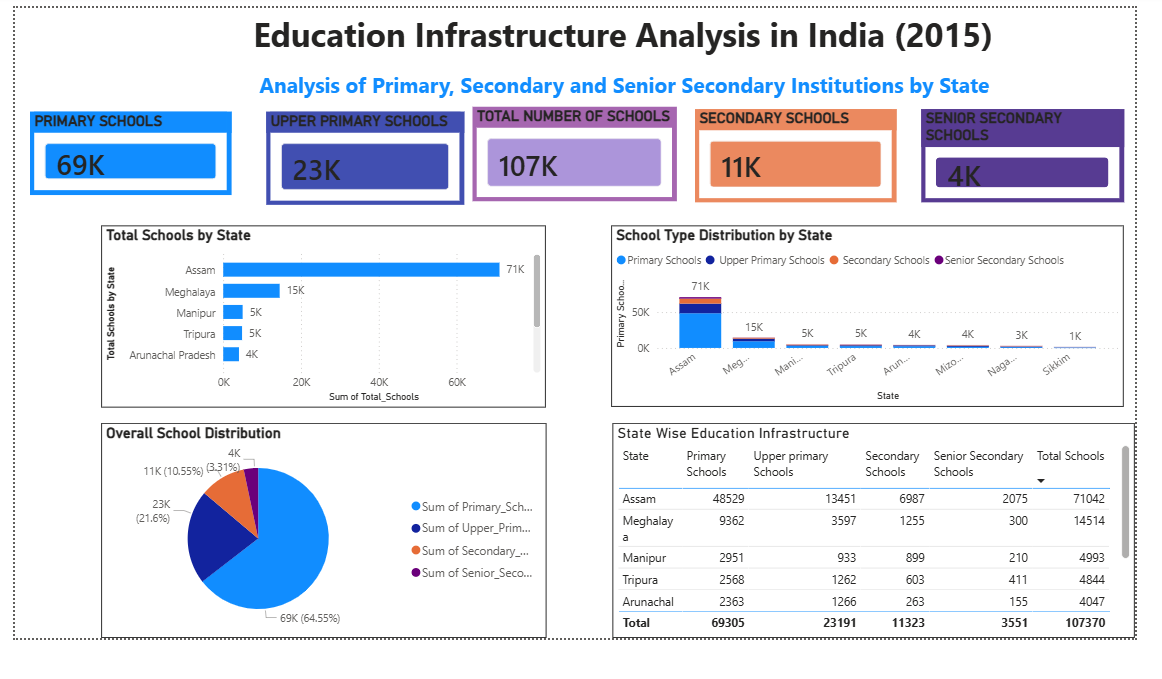

What the dashboard file says about the page in this screenshot:
{"tool":"powerbi","page":{"name":"Page 1","canvas":[1280,720],"ordinal":0},"visuals":[{"type":"textbox","box":[267.1,0,905.7,112.9],"z":0},{"type":"cardVisual","title":"TOTAL NUMBER OF SCHOOLS","fields":{"Data":["Sum(education_institutions_cleaned.Total_Schools)"]},"box":[523.3,113.3,233.3,108.3],"z":1000},{"type":"cardVisual","title":"PRIMARY SCHOOLS ","fields":{"Data":["Sum(education_institutions_cleaned.Primary_Schools)"]},"box":[16.7,118.3,230,95],"z":2000},{"type":"cardVisual","title":"UPPER PRIMARY SCHOOLS","fields":{"Data":["Sum(education_institutions_cleaned.Upper_Primary_Schools)"]},"box":[286.7,118.3,226.7,106.7],"z":3000},{"type":"cardVisual","title":"SECONDARY SCHOOLS ","fields":{"Data":["Sum(education_institutions_cleaned.Secondary_Schools)"]},"box":[776.7,115,230,106.7],"z":4000},{"type":"cardVisual","title":"SENIOR SECONDARY SCHOOLS ","fields":{"Data":["Sum(education_institutions_cleaned.Senior_Secondary_Schools)"]},"box":[1035,115,231.7,106.7],"z":5000},{"type":"clusteredBarChart","title":"Total Schools by State","fields":{"Y":["Sum(education_institutions_cleaned.Total_Schools)"],"Category":["education_institutions_cleaned.State"]},"box":[100,250,508.6,208.6],"z":6000},{"type":"columnChart","title":"School Type Distribution by State","fields":{"Category":["education_institutions_cleaned.State"],"Y":["Sum(education_institutions_cleaned.Primary_Schools)","Sum(education_institutions_cleaned.Upper_Primary_Schools)","Sum(education_institutions_cleaned.Secondary_Schools)","Sum(education_institutions_cleaned.Senior_Secondary_Schools)"]},"box":[681.4,248.6,585.7,207.1],"z":7000},{"type":"pieChart","title":"Overall School Distribution","fields":{"Y":["Sum(education_institutions_cleaned.Primary_Schools)","Sum(education_institutions_cleaned.Upper_Primary_Schools)","Sum(education_institutions_cleaned.Secondary_Schools)","Sum(education_institutions_cleaned.Senior_Secondary_Schools)"]},"box":[98.6,474.3,508.6,245.7],"z":8000},{"type":"tableEx","title":"State Wise Education Infrastructure","fields":{"Values":["education_institutions_cleaned.State","Sum(education_institutions_cleaned.Primary_Schools)","Sum(education_institutions_cleaned.Upper_Primary_Schools)","Sum(education_institutions_cleaned.Secondary_Schools)","Sum(education_institutions_cleaned.Senior_Secondary_Schools)","Sum(education_institutions_cleaned.Total_Schools)"]},"box":[682.9,474.3,597.1,245.7],"z":9000}]}

Visuals, with their boxes in screenshot pixels (x1, y1, x2, y2):
textbox: BBox(249, 9, 1031, 107)
"TOTAL NUMBER OF SCHOOLS" cardVisual: BBox(470, 107, 671, 200)
"PRIMARY SCHOOLS " cardVisual: BBox(33, 111, 231, 193)
"UPPER PRIMARY SCHOOLS" cardVisual: BBox(266, 111, 461, 203)
"SECONDARY SCHOOLS " cardVisual: BBox(689, 108, 887, 201)
"SENIOR SECONDARY SCHOOLS " cardVisual: BBox(912, 108, 1112, 201)
"Total Schools by State" clusteredBarChart: BBox(105, 225, 544, 405)
"School Type Distribution by State" columnChart: BBox(607, 224, 1112, 403)
"Overall School Distribution" pieChart: BBox(103, 419, 542, 631)
"State Wise Education Infrastructure" tableEx: BBox(608, 419, 1123, 631)
